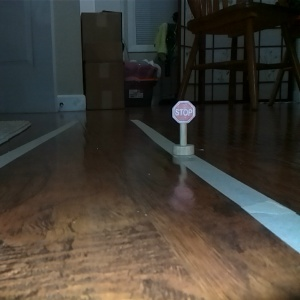stop sign: (168, 99, 197, 159)
